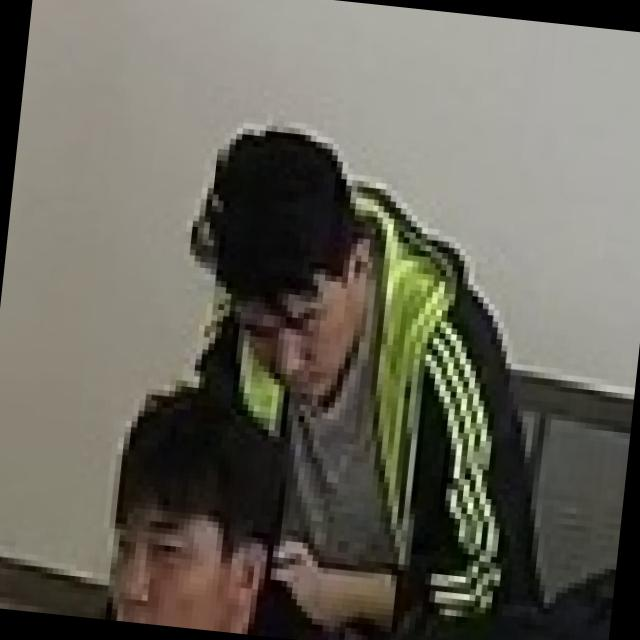listen: (80, 382, 299, 637)
trance: (201, 96, 598, 640)
